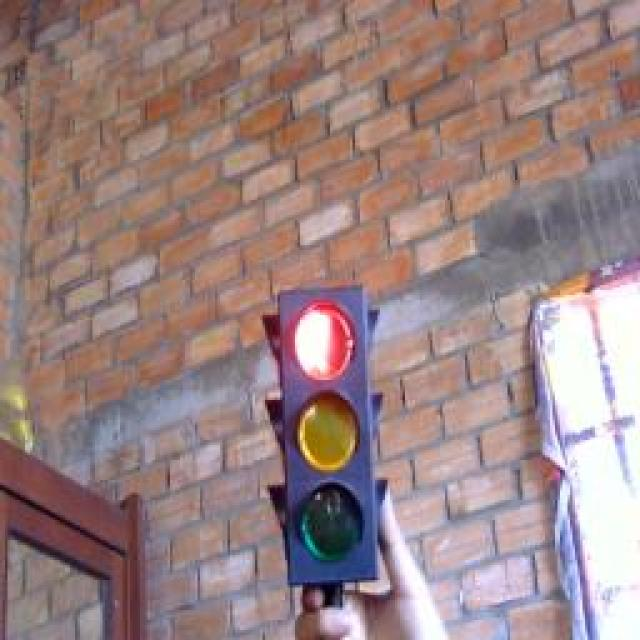-: (288, 296, 366, 388)
